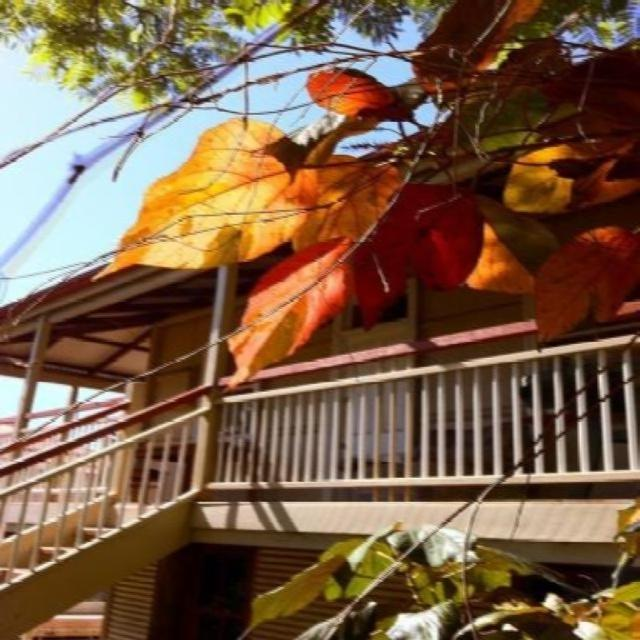stair: (0, 491, 200, 589)
